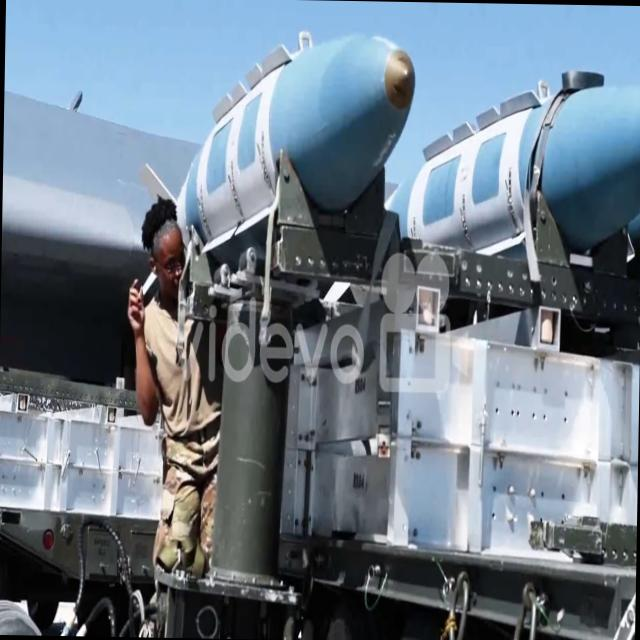rocket: (179, 22, 410, 271), (412, 70, 634, 266)
